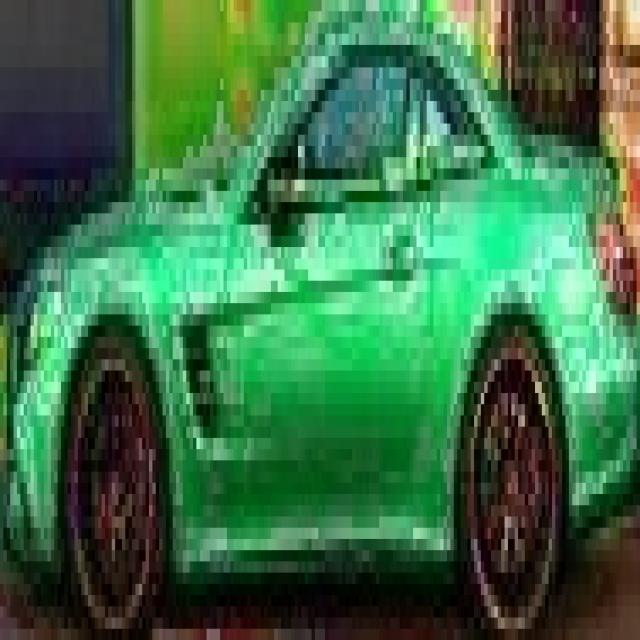green: (3, 11, 640, 640)
